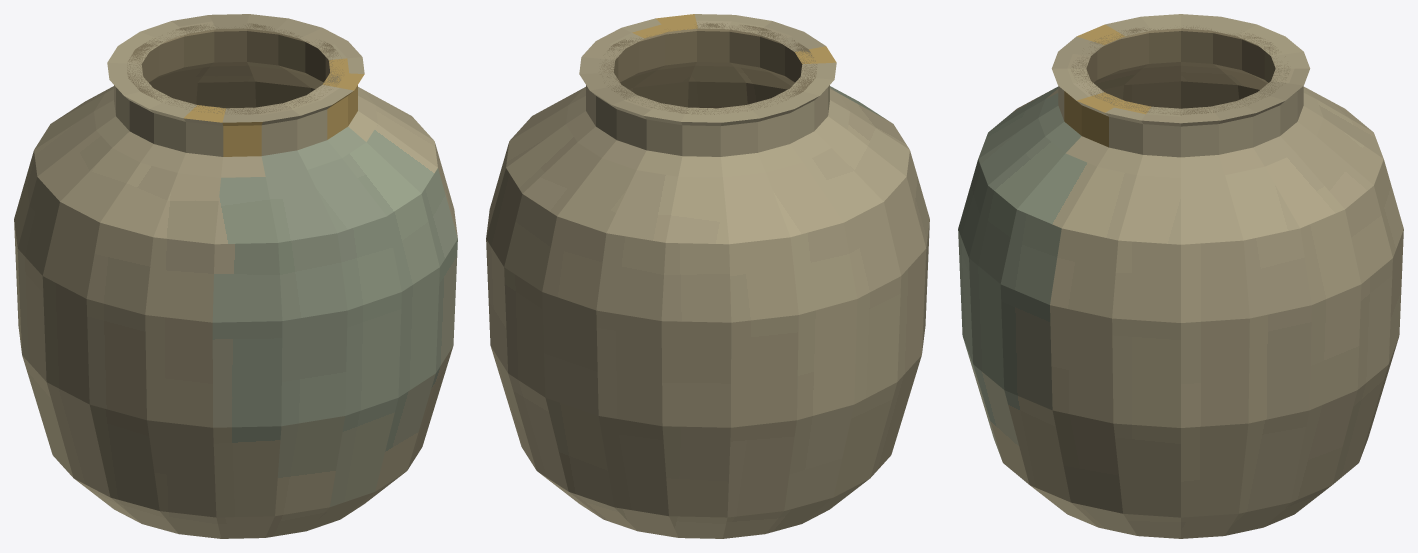
The model's file is antique-tamba-jar.glb.
The picture shows the model from 3 angles, left to right: view 1: azimuth 30°, elevation 25°; view 2: azimuth 150°, elevation 25°; view 3: azimuth 270°, elevation 25°; orthographic projection.
Visible parts, largest first — view 1: antique-tamba-jar/vessel-3, antique-tamba-jar/vessel-4, antique-tamba-jar/vessel-2, antique-tamba-jar/vessel-5, antique-tamba-jar/vessel-7, antique-tamba-jar/vessel-6, antique-tamba-jar/vessel-13, antique-tamba-jar/vessel-10, antique-tamba-jar/vessel-9, antique-tamba-jar/vessel-1, antique-tamba-jar/vessel-16, antique-tamba-jar/vessel-15 (+3 smaller); view 2: antique-tamba-jar/vessel-3, antique-tamba-jar/vessel-4, antique-tamba-jar/vessel-2, antique-tamba-jar/vessel-5, antique-tamba-jar/vessel-7, antique-tamba-jar/vessel-6, antique-tamba-jar/vessel-13, antique-tamba-jar/vessel-10, antique-tamba-jar/vessel-9, antique-tamba-jar/vessel-1, antique-tamba-jar/vessel-16, antique-tamba-jar/vessel-15 (+3 smaller); view 3: antique-tamba-jar/vessel-3, antique-tamba-jar/vessel-4, antique-tamba-jar/vessel-2, antique-tamba-jar/vessel-5, antique-tamba-jar/vessel-7, antique-tamba-jar/vessel-6, antique-tamba-jar/vessel-13, antique-tamba-jar/vessel-10, antique-tamba-jar/vessel-9, antique-tamba-jar/vessel-1, antique-tamba-jar/vessel-16, antique-tamba-jar/vessel-15 (+3 smaller).
Boxes of the visible parts, left/top/right/bottom form: antique-tamba-jar/vessel-3: left=14, top=220, right=457, bottom=427; antique-tamba-jar/vessel-4: left=14, top=143, right=457, bottom=322; antique-tamba-jar/vessel-2: left=22, top=346, right=453, bottom=517; antique-tamba-jar/vessel-5: left=34, top=86, right=437, bottom=244; antique-tamba-jar/vessel-7: left=114, top=85, right=357, bottom=156; antique-tamba-jar/vessel-6: left=94, top=87, right=377, bottom=177; antique-tamba-jar/vessel-13: left=141, top=31, right=330, bottom=82; antique-tamba-jar/vessel-10: left=123, top=20, right=348, bottom=116; antique-tamba-jar/vessel-9: left=107, top=14, right=364, bottom=122; antique-tamba-jar/vessel-1: left=75, top=472, right=405, bottom=538; antique-tamba-jar/vessel-16: left=156, top=81, right=315, bottom=108; antique-tamba-jar/vessel-15: left=149, top=65, right=323, bottom=89; antique-tamba-jar/vessel-3: left=486, top=220, right=929, bottom=427; antique-tamba-jar/vessel-4: left=486, top=143, right=929, bottom=322; antique-tamba-jar/vessel-2: left=490, top=346, right=921, bottom=517; antique-tamba-jar/vessel-5: left=506, top=86, right=909, bottom=244; antique-tamba-jar/vessel-7: left=586, top=85, right=829, bottom=156; antique-tamba-jar/vessel-6: left=566, top=87, right=849, bottom=177; antique-tamba-jar/vessel-13: left=613, top=31, right=802, bottom=82; antique-tamba-jar/vessel-10: left=595, top=20, right=820, bottom=116; antique-tamba-jar/vessel-9: left=579, top=14, right=836, bottom=122; antique-tamba-jar/vessel-1: left=538, top=472, right=868, bottom=538; antique-tamba-jar/vessel-16: left=628, top=81, right=787, bottom=108; antique-tamba-jar/vessel-15: left=620, top=65, right=794, bottom=89; antique-tamba-jar/vessel-3: left=958, top=229, right=1403, bottom=427; antique-tamba-jar/vessel-4: left=958, top=159, right=1403, bottom=322; antique-tamba-jar/vessel-2: left=963, top=337, right=1398, bottom=517; antique-tamba-jar/vessel-5: left=978, top=87, right=1383, bottom=244; antique-tamba-jar/vessel-7: left=1058, top=86, right=1303, bottom=157; antique-tamba-jar/vessel-6: left=1038, top=89, right=1323, bottom=178; antique-tamba-jar/vessel-13: left=1086, top=31, right=1275, bottom=82; antique-tamba-jar/vessel-10: left=1067, top=20, right=1294, bottom=116; antique-tamba-jar/vessel-9: left=1051, top=14, right=1310, bottom=123; antique-tamba-jar/vessel-1: left=1030, top=485, right=1331, bottom=538; antique-tamba-jar/vessel-16: left=1102, top=81, right=1259, bottom=108; antique-tamba-jar/vessel-15: left=1094, top=65, right=1267, bottom=89.
Bounding box in the file's own units: 0.5625 × 0.5722 × 0.5625.
Materials: 3 (3 with a texture image).
